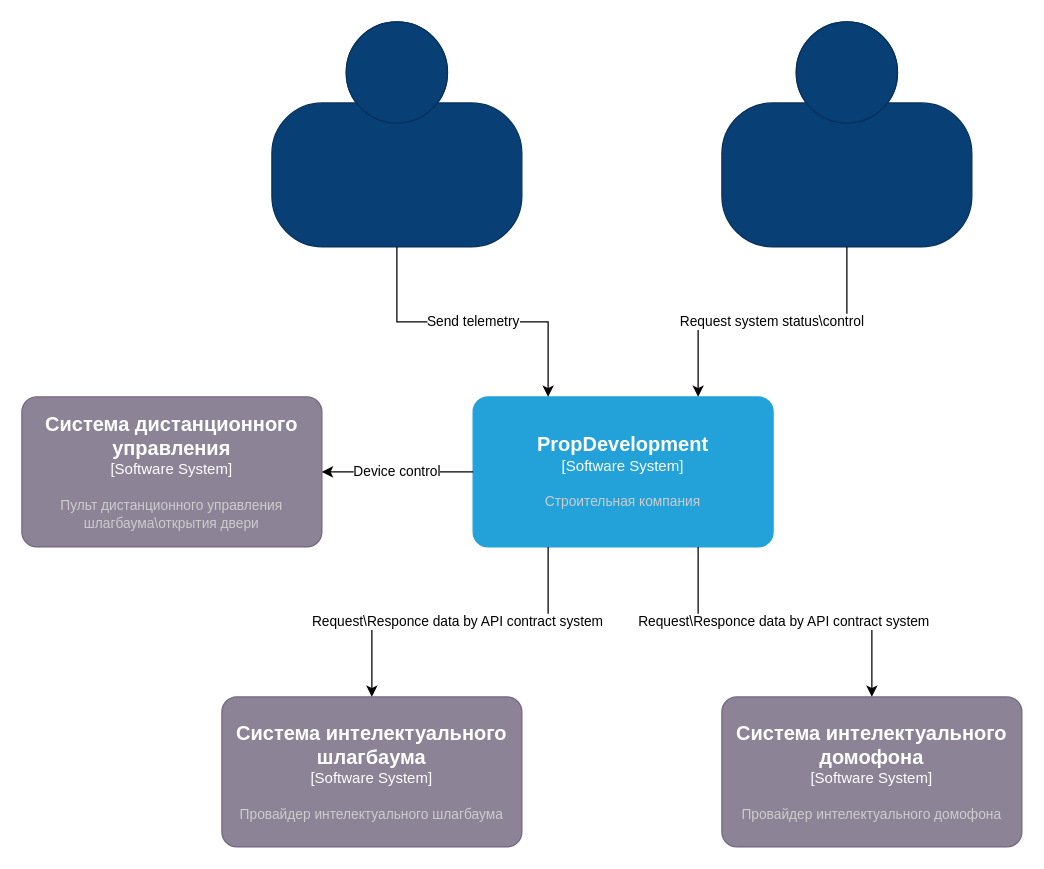
Image size: 1044x869. Some labels were removed from this diagram. The box of each missing label's shape, as (x1, y1, x2, y2) in pixels:
Камера [Sensor] Сенсор: (271, 21, 522, 247)
Собственник [Person] Клиент: (721, 21, 972, 247)
